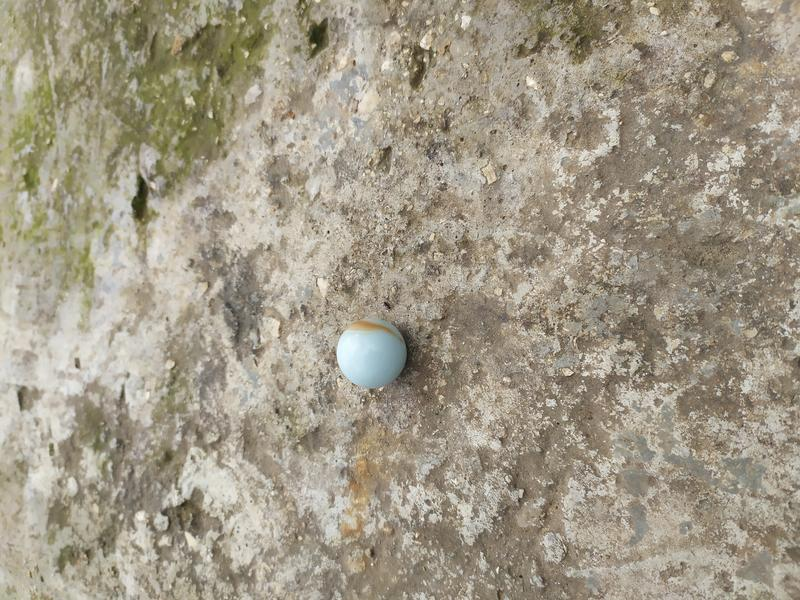Warning: (334, 316, 409, 391)
